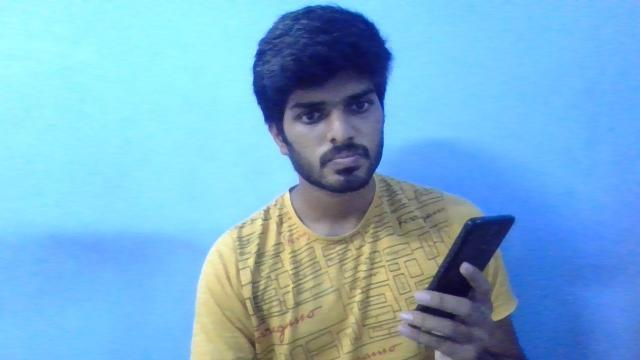PhoneUse: (413, 216, 515, 340)
SafeDriving: (288, 100, 333, 127), (342, 89, 381, 118)
